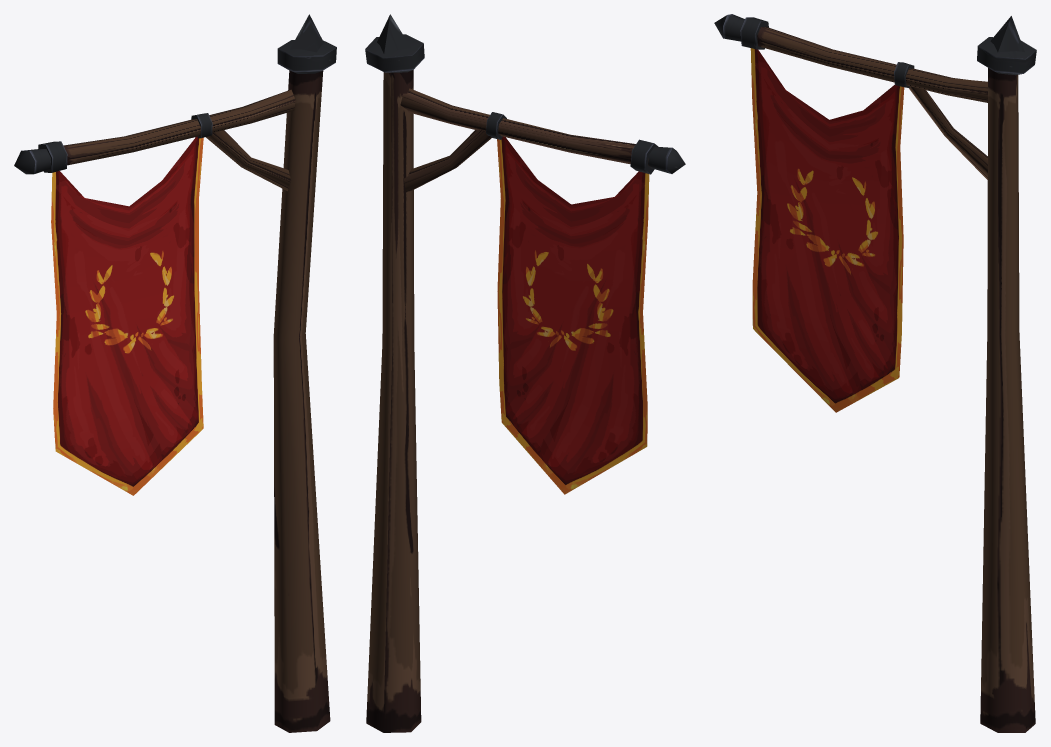
Rendered from SM_PROP_flag_dungeon_03.fbx.
3 views of the same model, side by side, from view 1: azimuth 30°, elevation 25°; view 2: azimuth 150°, elevation 25°; view 3: azimuth 330°, elevation 25° (orthographic).
Visible parts, largest first — view 1: SM_PROP_flag_dungeon_03; view 2: SM_PROP_flag_dungeon_03; view 3: SM_PROP_flag_dungeon_03.
Boxes of the visible parts, x1,y1,x2,y2 form: SM_PROP_flag_dungeon_03: [14, 14, 336, 732]; SM_PROP_flag_dungeon_03: [365, 14, 685, 732]; SM_PROP_flag_dungeon_03: [714, 14, 1036, 732].
Bounding box in the file's own units: 197 × 422 × 31.12.
